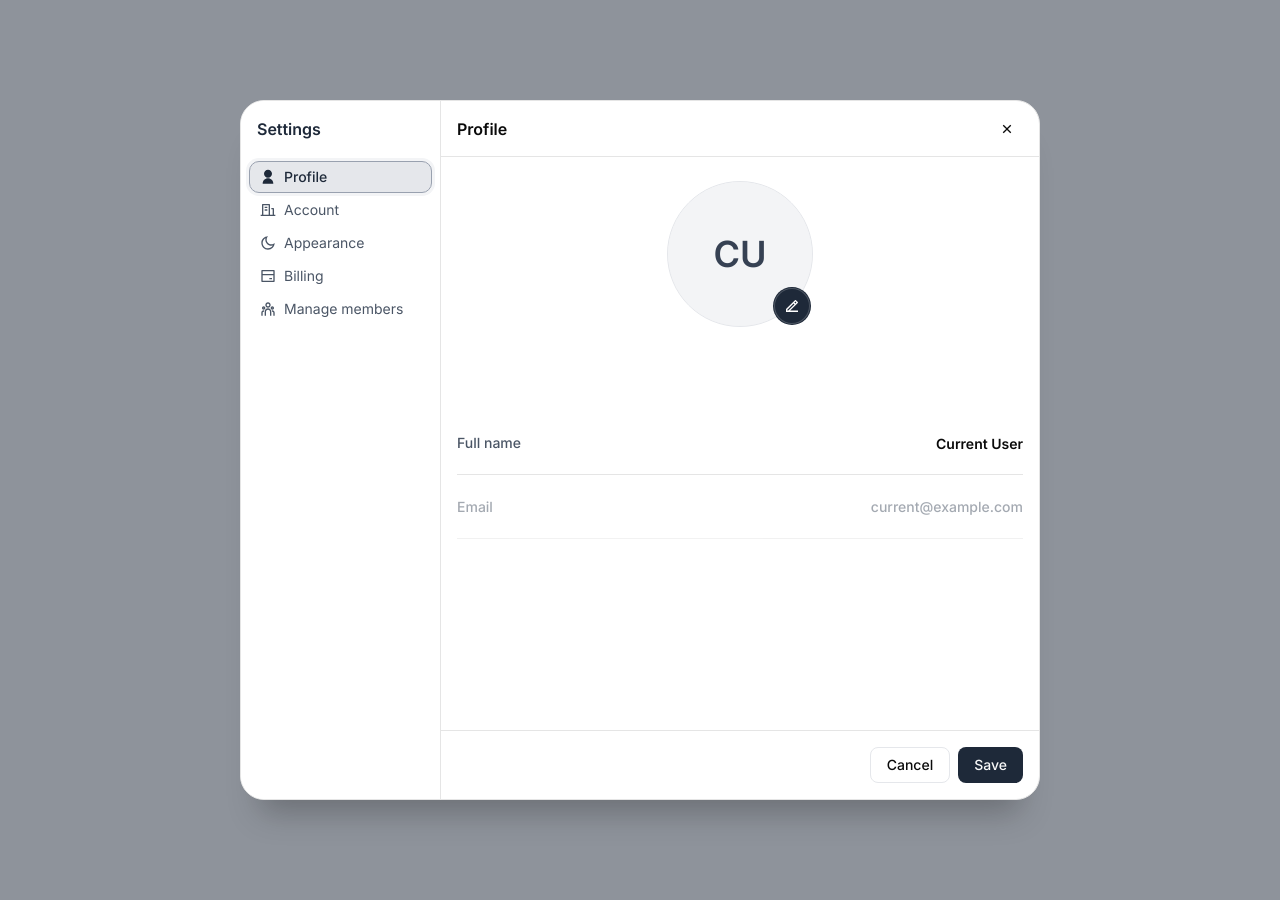
Scenario: SettingsDialog › opening Account does not announce a password change
Click the button "Account": (340,210) [249,194,432,226]
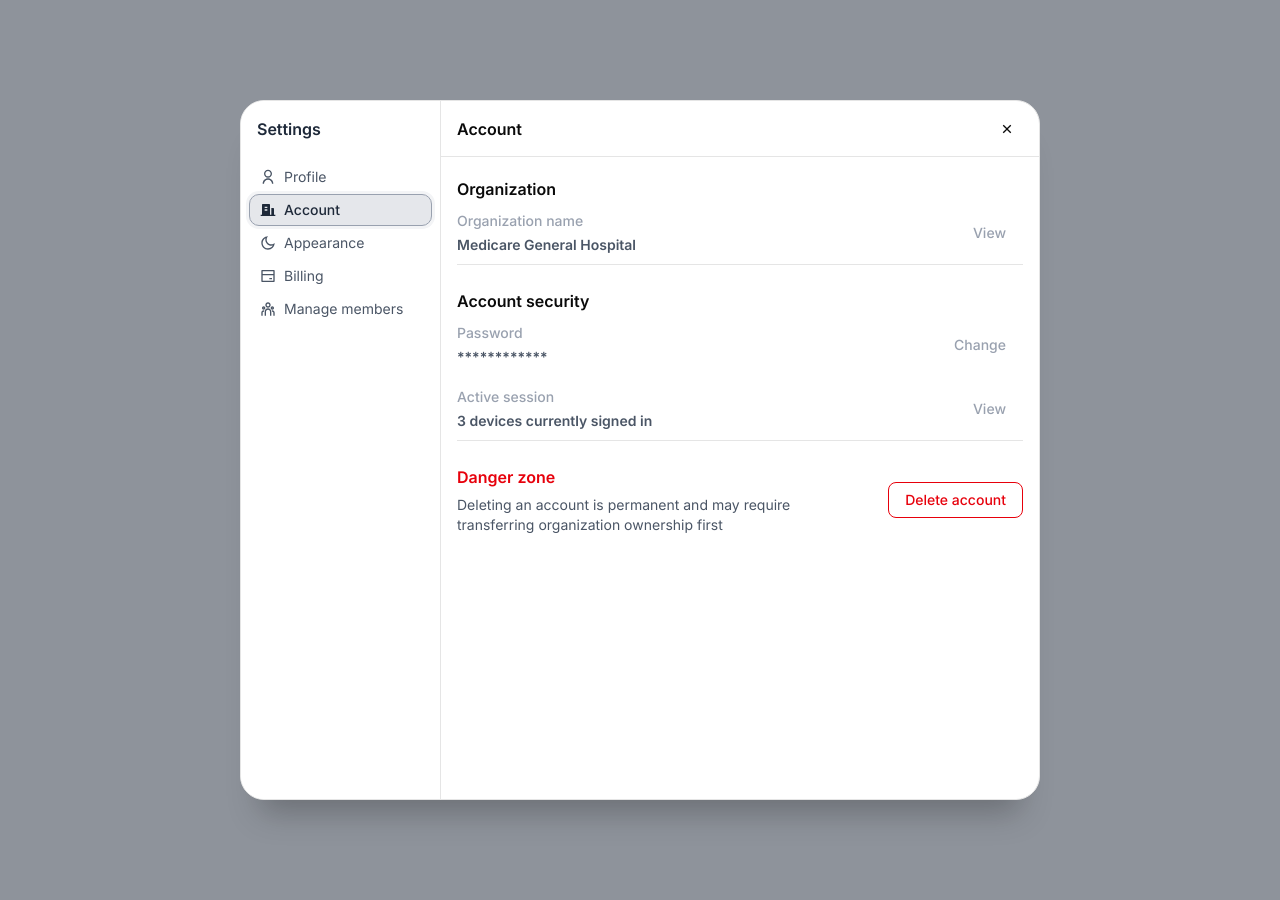
expect the button "Delete account" is shown: met, box [888,482,1023,518]
